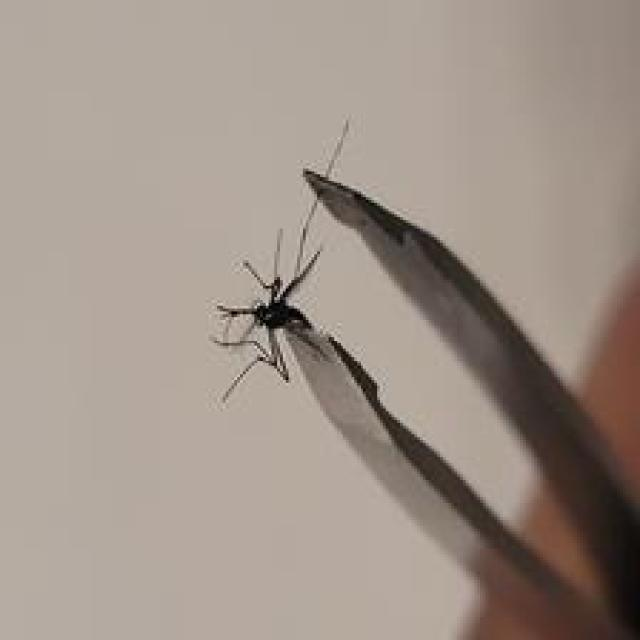Aedes albopictus: (211, 119, 640, 638)
